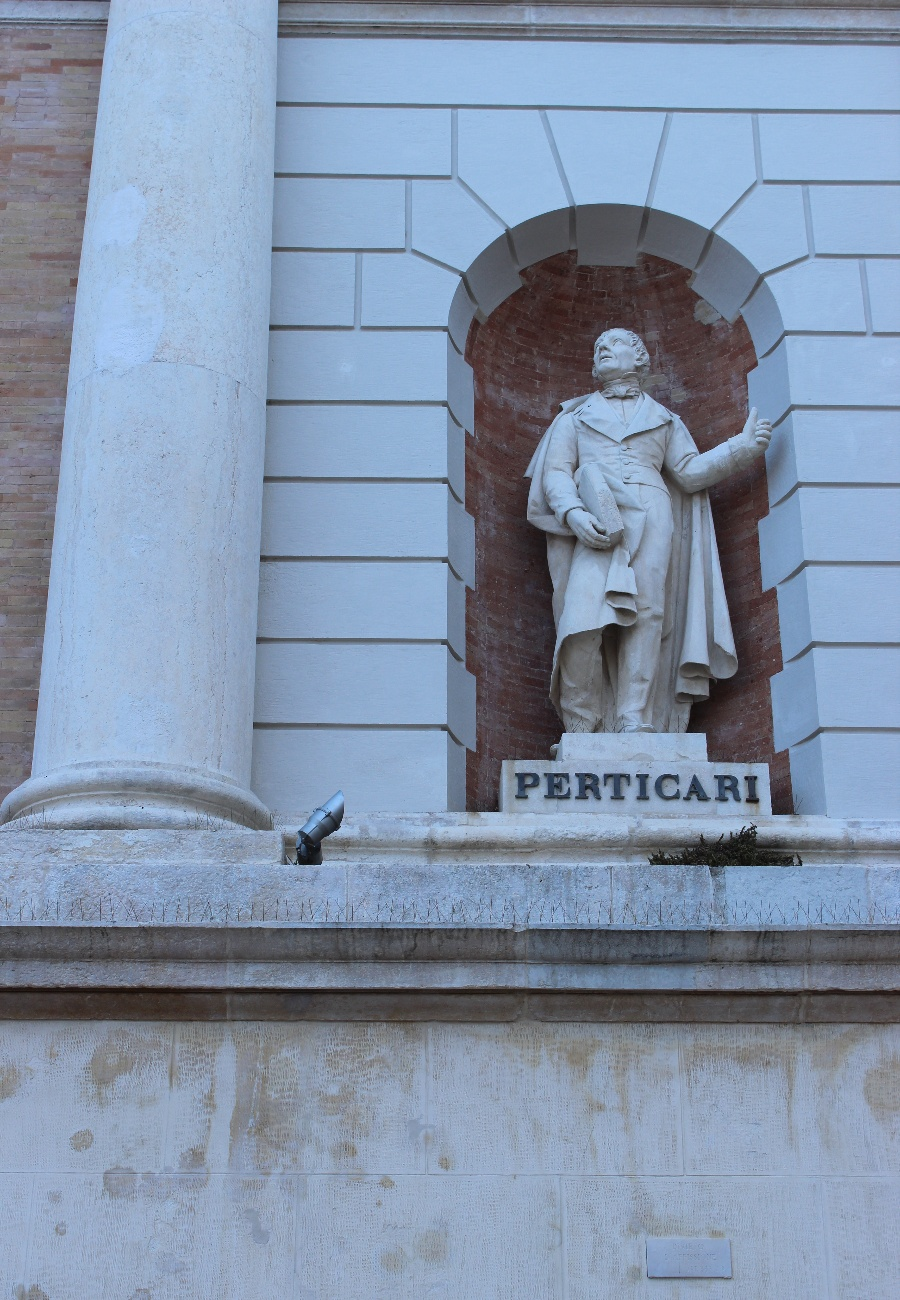Giulio Perticari: (421, 193, 837, 847)
